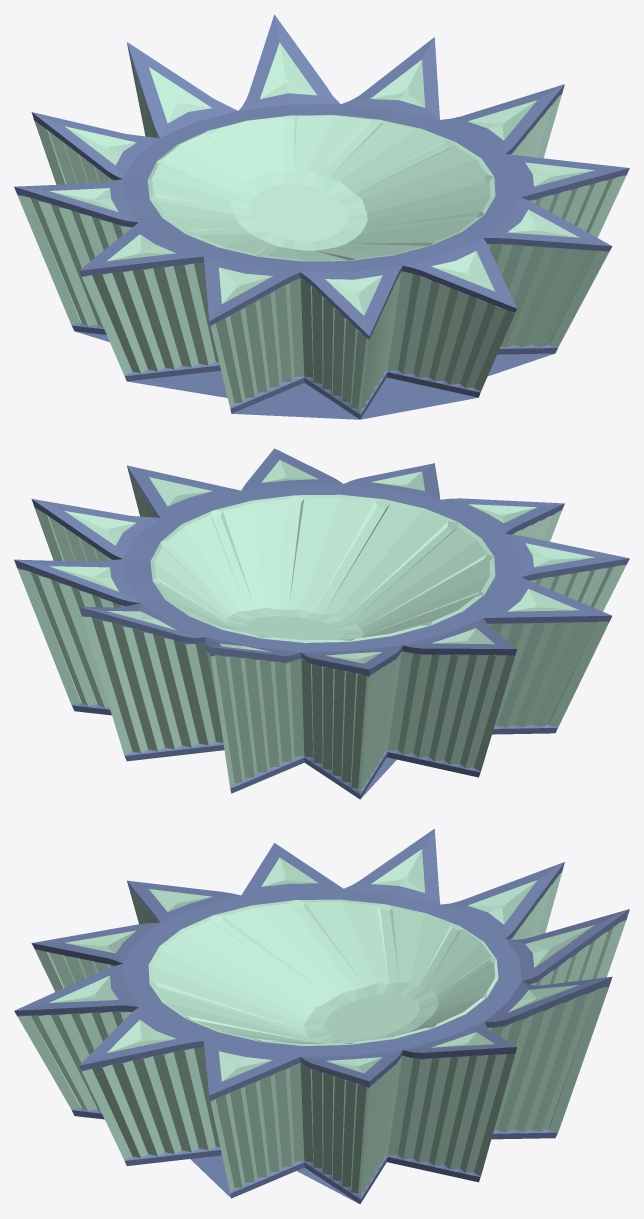
File: cenicero.fbx
3 views of the same model, one above another, from view 1: azimuth 30°, elevation 25°; view 2: azimuth 150°, elevation 25°; view 3: azimuth 270°, elevation 25° (orthographic).
Parts seen in each view (by area): view 1: cenicero; view 2: cenicero; view 3: cenicero.
Part boxes in pixels (left/top/right/bottom): cenicero: left=14, top=14, right=629, bottom=419; cenicero: left=14, top=448, right=629, bottom=799; cenicero: left=14, top=829, right=629, bottom=1203.
Bounding box in the file's own units: 1255 × 384 × 1255.
